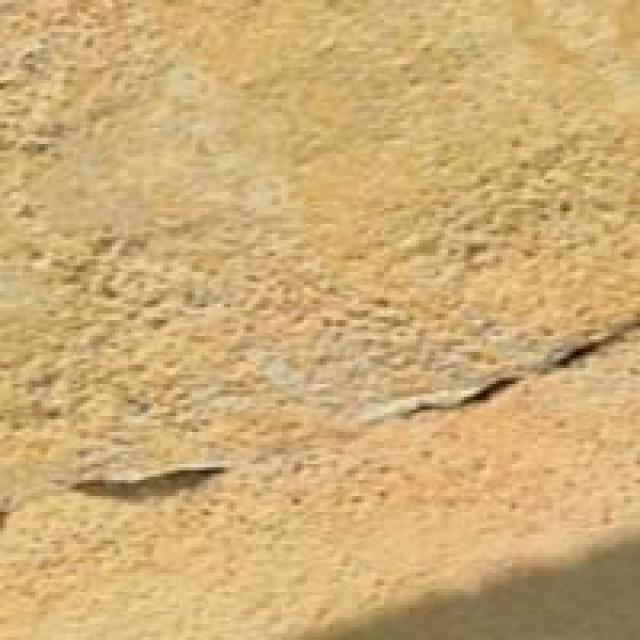Crack: (3, 269, 637, 528)
